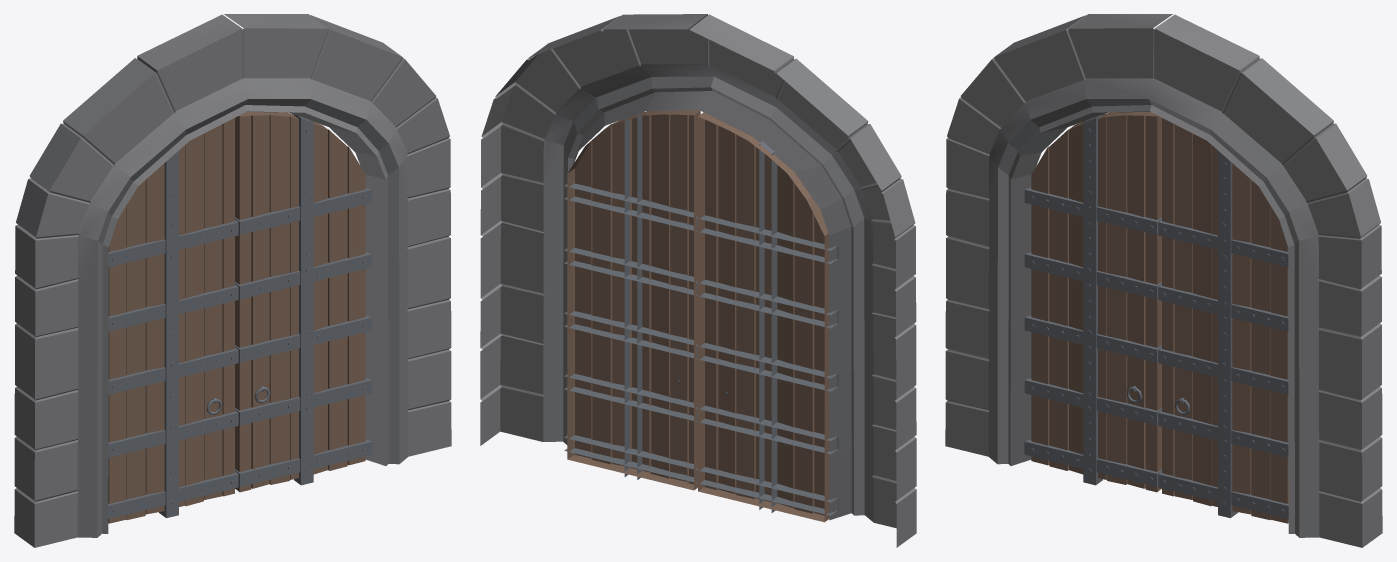
Rendered from BigGate.fbx.
3 views of the same model, side by side, from view 1: azimuth 30°, elevation 25°; view 2: azimuth 150°, elevation 25°; view 3: azimuth 330°, elevation 25° (orthographic).
Parts seen in each view (by area): view 1: BigGateFrame, Door, BigGateMetal; view 2: BigGateFrame, Door, BigGateMetal; view 3: BigGateFrame, Door, BigGateMetal.
Boxes of the visible parts, x1,y1,x2,y2 form: BigGateFrame: [14, 14, 451, 547]; Door: [108, 112, 365, 523]; BigGateMetal: [108, 114, 372, 518]; BigGateFrame: [480, 14, 916, 547]; Door: [567, 110, 829, 522]; BigGateMetal: [564, 111, 838, 515]; BigGateFrame: [945, 14, 1382, 547]; Door: [1031, 112, 1288, 523]; BigGateMetal: [1024, 114, 1288, 518].
Bounding box in the file's own units: 738 × 802 × 78.47.
